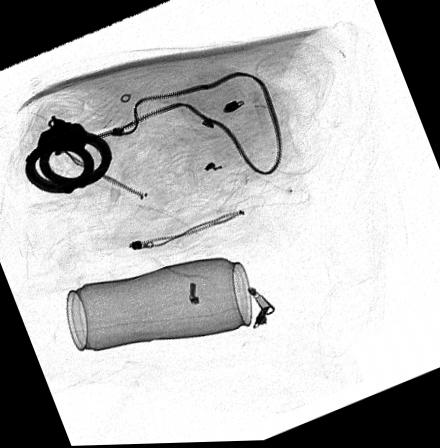HandCuffs: (22, 115, 112, 196)
